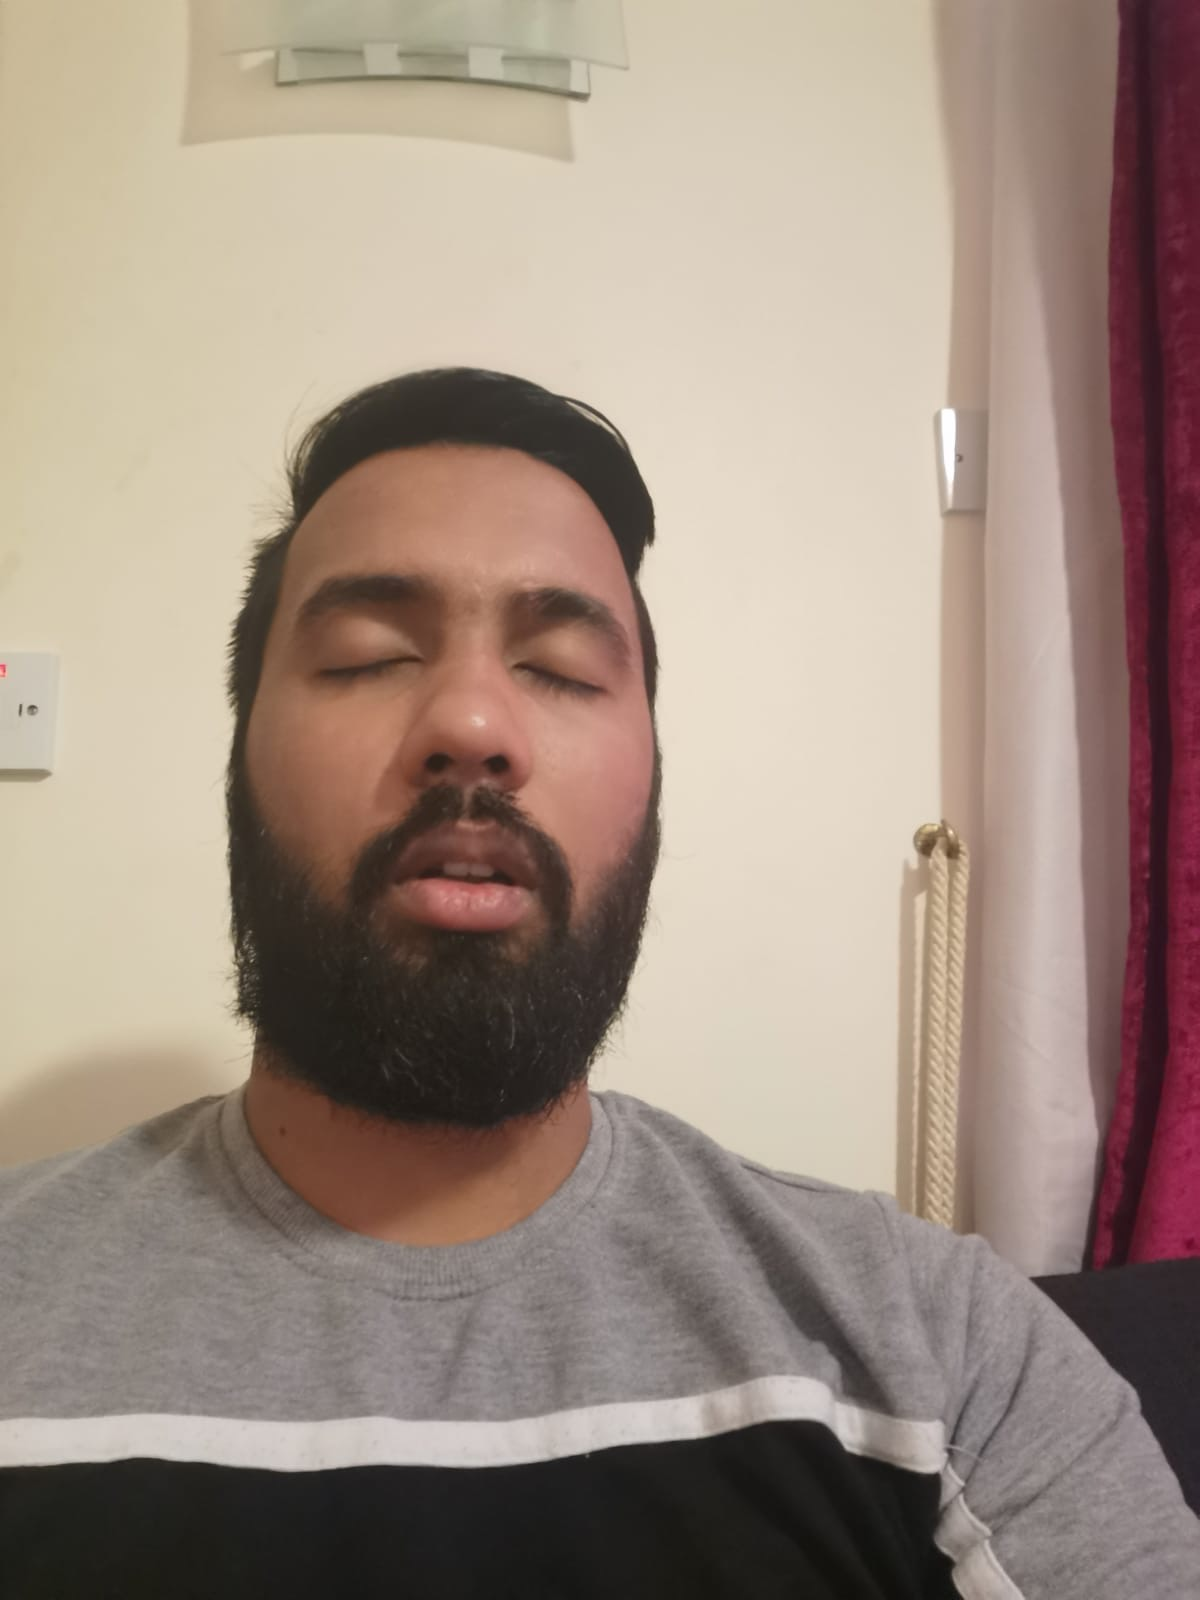Sleeping: (275, 598, 642, 724)
